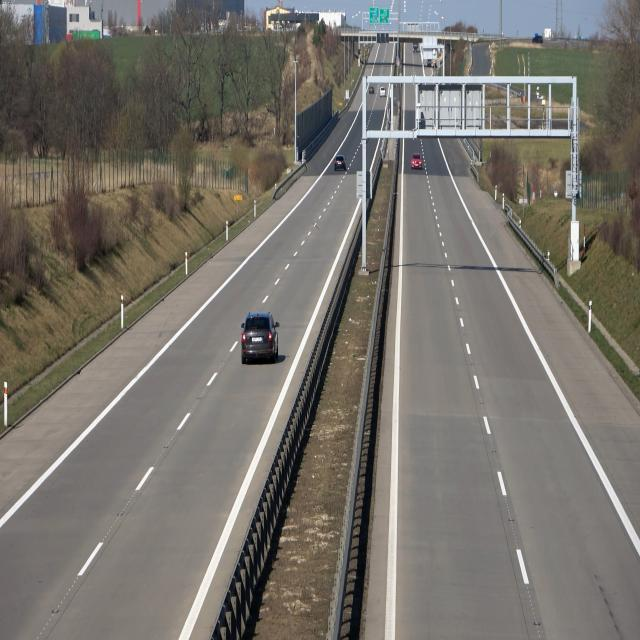Vehicle: (240, 308, 278, 363), (409, 153, 422, 171), (333, 154, 346, 172), (378, 86, 386, 98)
